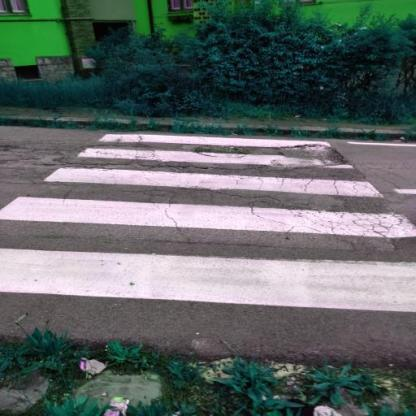crosswalk: (41, 145, 393, 203)
